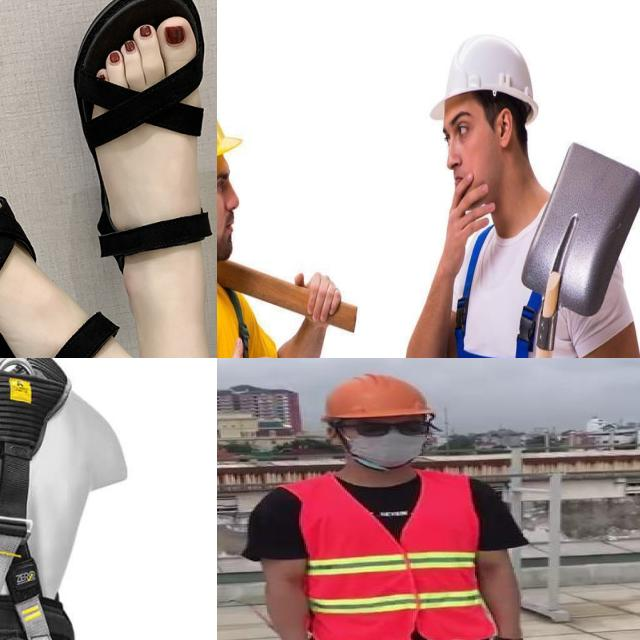Harness: (0, 358, 99, 640)
No_Ear-Protection: (439, 93, 540, 212), (217, 149, 239, 267)
Sandals: (0, 0, 217, 358)
head_helmet: (321, 369, 432, 422)
person: (245, 364, 546, 640)
vest: (295, 474, 489, 640)
